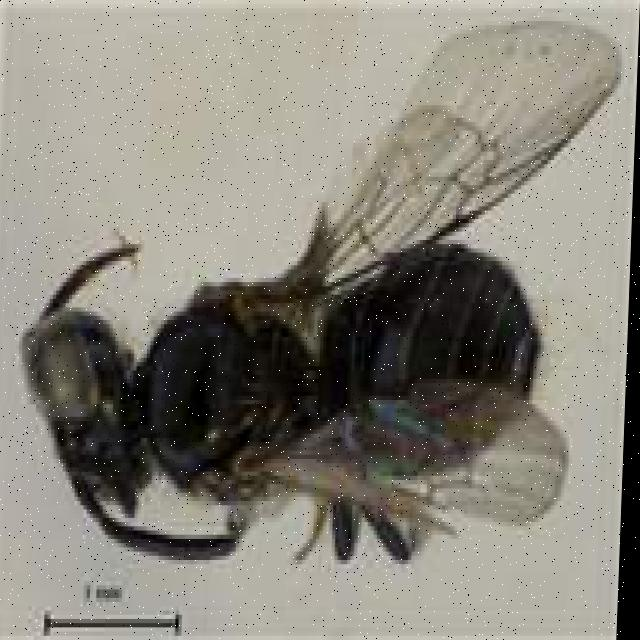Braunsapis: (11, 80, 604, 593)
